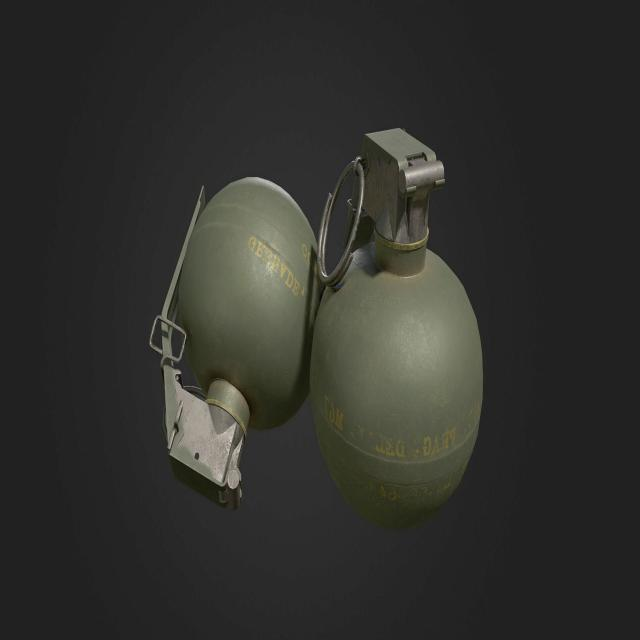grenade: (308, 124, 486, 526), (149, 174, 325, 513)
